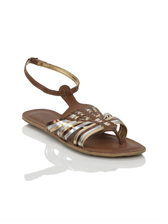shoes: (12, 49, 149, 157)
